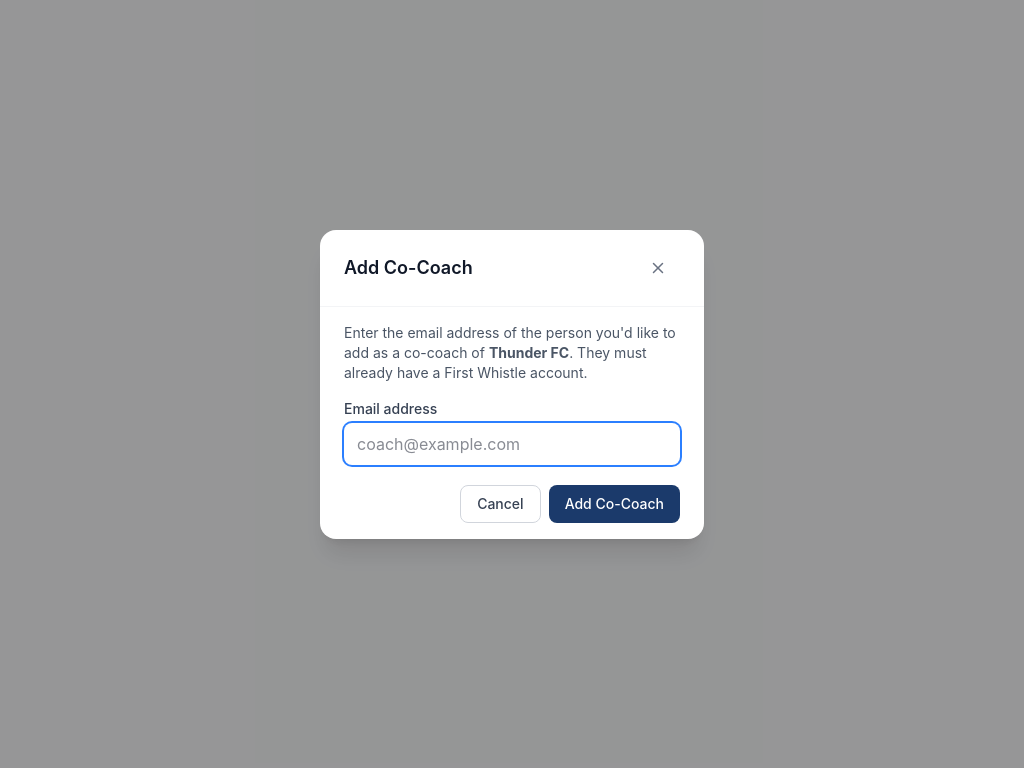
Test: AssignCoCoachModal — form validation › shows a validation error when submitted with an empty email
Click the button "Add Co-Coach" at (614, 504), box x1=549 y1=484 x2=680 y2=522
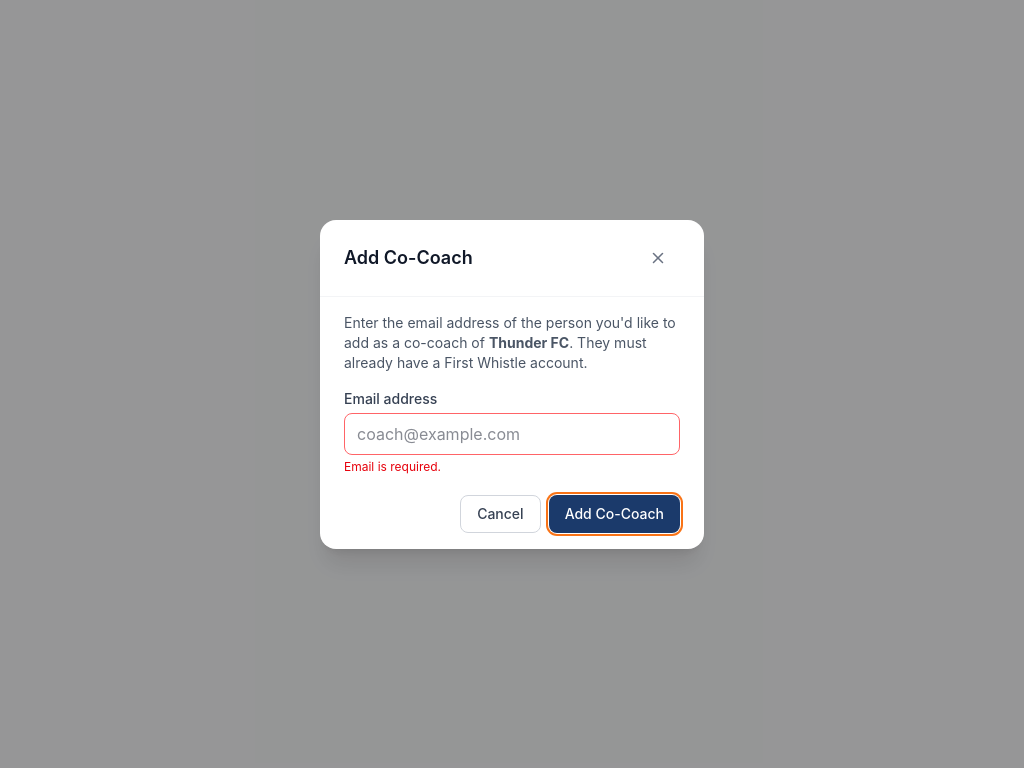
Expected: the text "Email is required." is shown, x1=344 y1=458 x2=441 y2=474
